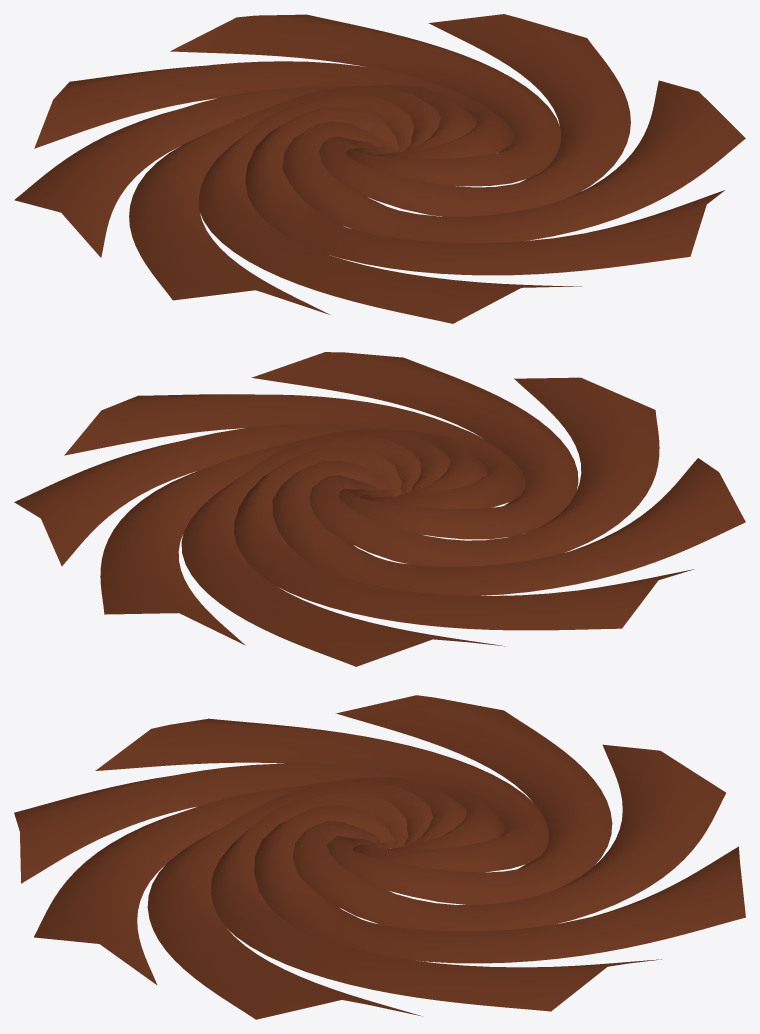
File: souce_pool_spiral2.glb
3 renders of one model, top to bottom at view 1: azimuth 30°, elevation 25°; view 2: azimuth 150°, elevation 25°; view 3: azimuth 270°, elevation 25°, orthographic. The views are drawn at different scales.
Parts seen in each view (by area): view 1: spiral2; view 2: spiral2; view 3: spiral2.
Part boxes in pixels (x1,y1,x2,y2): spiral2: [14, 14, 745, 323]; spiral2: [14, 352, 745, 666]; spiral2: [14, 695, 745, 1019].
Size of the model in its own units: 17.36 by 1.17 by 17.36.
Materials: 1 (1 with a texture image).
